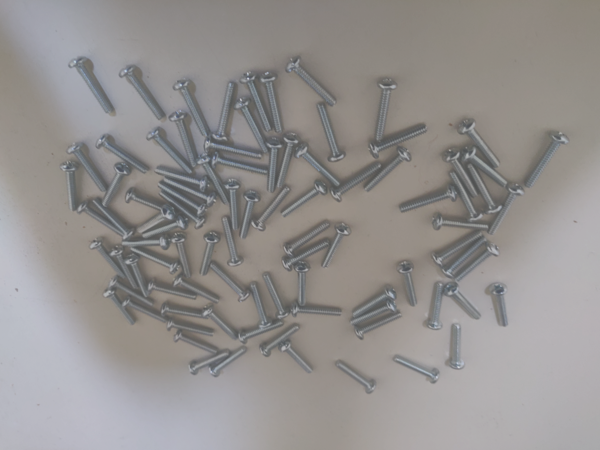longscrew: (97, 137, 155, 185), (119, 66, 169, 120), (525, 132, 571, 188), (70, 57, 116, 113), (286, 58, 343, 102), (364, 147, 410, 194), (158, 191, 206, 236), (462, 146, 513, 188), (177, 80, 215, 136), (235, 96, 271, 155), (151, 129, 197, 175), (243, 71, 277, 133), (70, 144, 107, 199), (296, 145, 345, 186), (458, 121, 501, 167), (487, 185, 525, 237), (332, 164, 380, 205), (76, 202, 124, 243), (369, 126, 428, 159), (160, 176, 217, 210), (281, 181, 325, 225), (170, 114, 205, 167), (158, 182, 211, 217), (91, 197, 134, 240), (208, 262, 255, 301), (259, 71, 289, 132), (317, 102, 348, 161), (130, 245, 181, 280), (447, 173, 484, 221), (466, 167, 503, 215), (442, 152, 479, 200), (127, 189, 176, 225), (457, 243, 501, 283), (443, 237, 487, 277), (198, 156, 233, 206), (436, 231, 479, 271), (152, 167, 211, 196), (99, 160, 128, 218), (253, 189, 293, 231), (87, 239, 125, 283), (284, 220, 330, 256), (211, 154, 271, 181), (375, 78, 398, 146), (203, 136, 263, 162), (322, 221, 353, 269), (108, 277, 156, 308), (263, 272, 292, 322), (215, 78, 238, 141), (335, 360, 375, 396), (352, 286, 396, 318), (400, 188, 456, 213), (172, 276, 222, 304), (159, 300, 209, 328), (283, 242, 328, 273), (109, 247, 139, 292), (102, 290, 139, 326), (167, 318, 216, 345), (391, 358, 440, 384), (220, 216, 246, 265), (119, 300, 172, 324), (206, 309, 240, 346), (210, 347, 248, 380), (190, 349, 228, 382), (145, 279, 197, 303), (275, 133, 297, 189), (447, 285, 484, 318), (137, 207, 175, 239), (139, 215, 189, 239), (261, 325, 297, 358), (60, 159, 82, 213), (175, 331, 220, 357), (358, 314, 401, 341), (351, 302, 396, 327), (225, 177, 245, 233), (239, 322, 287, 344), (127, 256, 153, 296), (175, 233, 197, 280), (282, 344, 317, 373), (250, 283, 273, 327), (240, 192, 260, 242), (399, 263, 420, 309), (433, 217, 488, 234), (200, 232, 218, 282), (117, 237, 172, 253), (265, 139, 281, 193), (492, 283, 511, 328), (295, 259, 312, 309), (293, 304, 342, 320), (450, 324, 464, 371), (430, 283, 444, 330)
